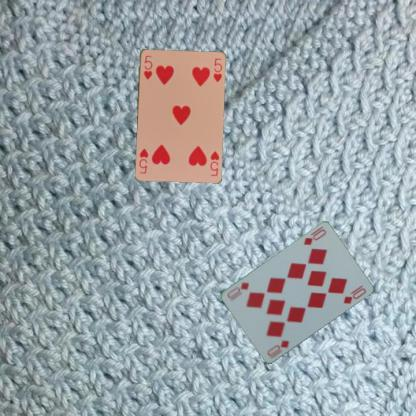10d: (301, 224, 328, 247), (264, 338, 290, 361)
5h: (208, 148, 220, 177), (141, 53, 153, 80)
